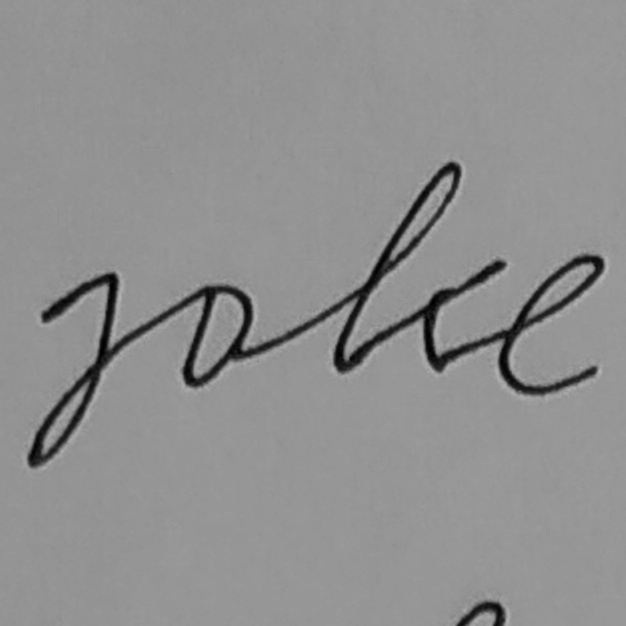e: (499, 248, 614, 399)
j: (19, 268, 123, 471)
k: (328, 159, 511, 378)
o: (176, 279, 259, 390)
